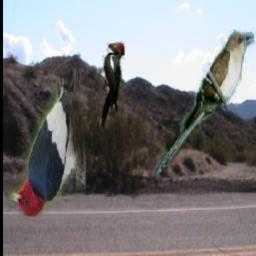Cuckoo: (152, 31, 256, 181)
Woodpecker: (4, 65, 86, 218), (101, 41, 126, 129)
